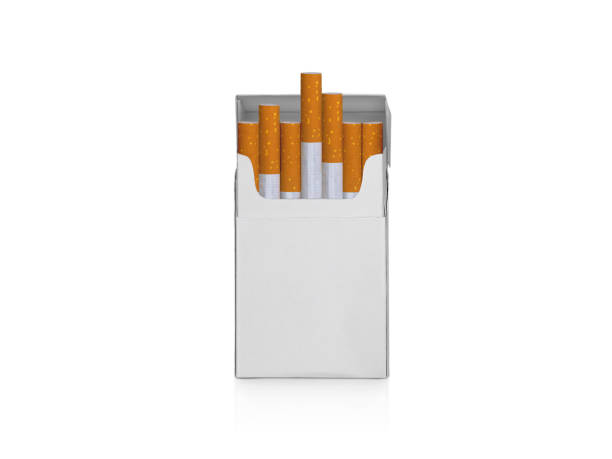cigarette: (234, 93, 389, 381), (300, 70, 323, 199), (323, 90, 344, 200), (260, 103, 281, 198), (236, 118, 260, 194), (280, 120, 302, 199), (344, 121, 362, 200), (363, 120, 384, 167)
